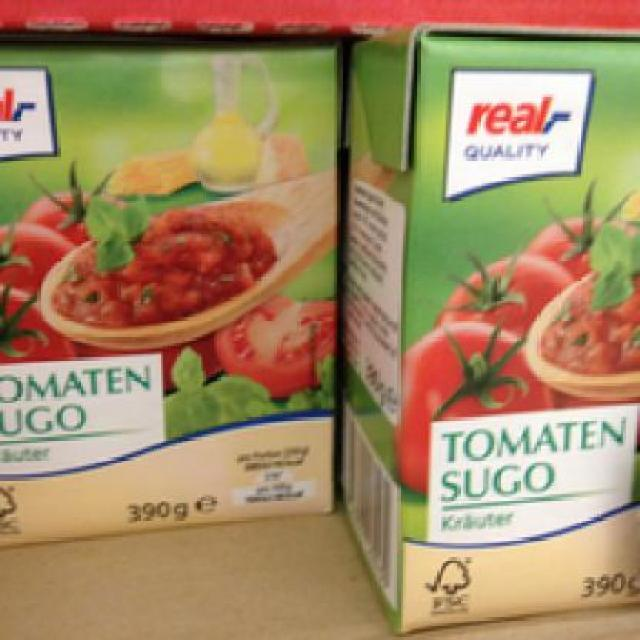Tomato Sauce: (334, 26, 637, 634), (0, 34, 337, 546)
